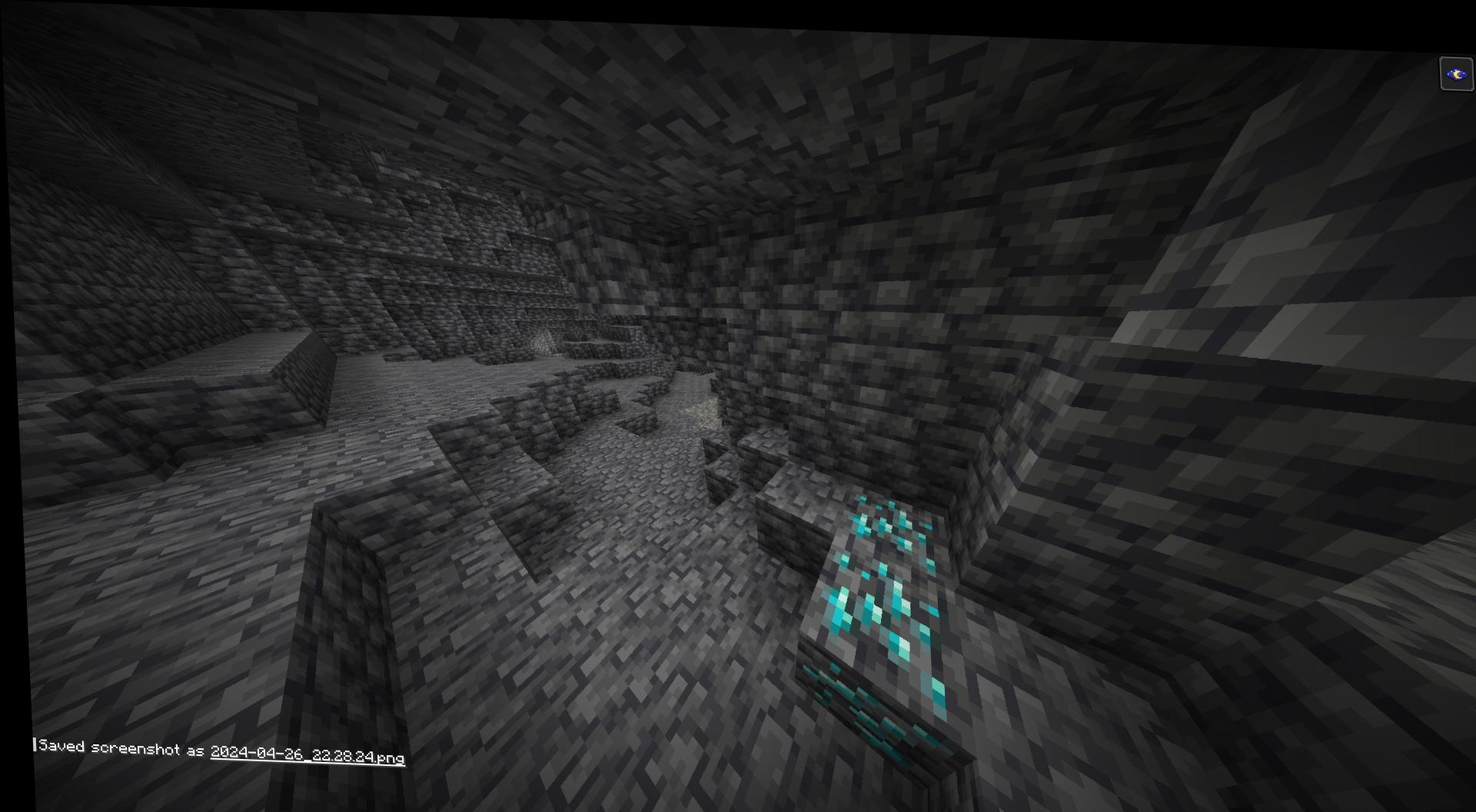diamond ore: (805, 542, 954, 696), (794, 651, 940, 777), (846, 482, 940, 563)
